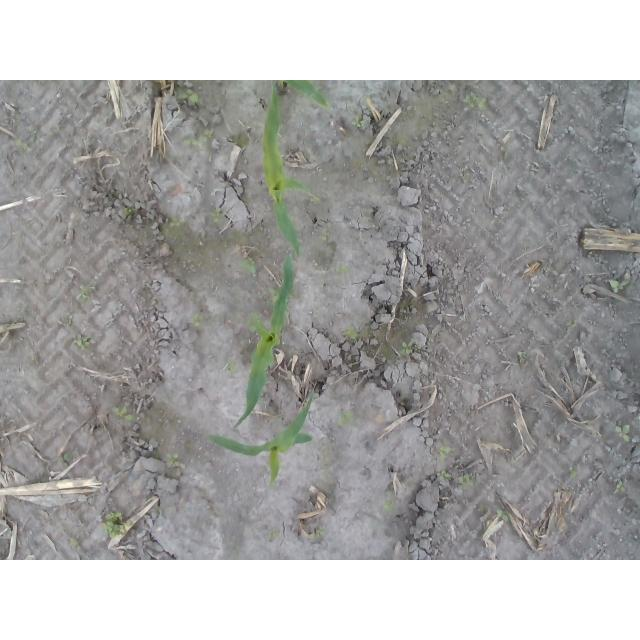Maize: (203, 379, 317, 485), (233, 256, 296, 429), (261, 83, 308, 258), (281, 80, 335, 116)
Weeds: (100, 510, 129, 539), (181, 129, 215, 147), (463, 87, 489, 110), (109, 404, 137, 424), (609, 273, 634, 294), (177, 87, 204, 105), (255, 287, 280, 304), (238, 256, 259, 275), (78, 282, 96, 301), (615, 422, 631, 443), (244, 311, 260, 332), (344, 322, 359, 343), (73, 335, 95, 349), (207, 208, 225, 225), (335, 411, 353, 428), (309, 526, 327, 543), (191, 313, 210, 329), (384, 490, 397, 513), (495, 504, 511, 522), (439, 448, 455, 465), (15, 137, 33, 152), (461, 473, 479, 488), (167, 214, 186, 228), (225, 358, 240, 374), (56, 453, 72, 468), (399, 341, 414, 356), (350, 115, 366, 129), (164, 454, 180, 467), (265, 528, 279, 541), (614, 480, 626, 495), (336, 263, 353, 273), (437, 469, 451, 481), (70, 536, 81, 550), (439, 92, 449, 105), (319, 228, 329, 240), (123, 206, 137, 214), (310, 195, 321, 205), (567, 467, 577, 478), (518, 351, 528, 361), (568, 320, 578, 328)
